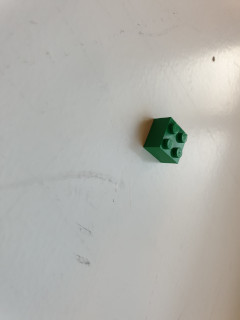2x2 green: (143, 116, 188, 164)
